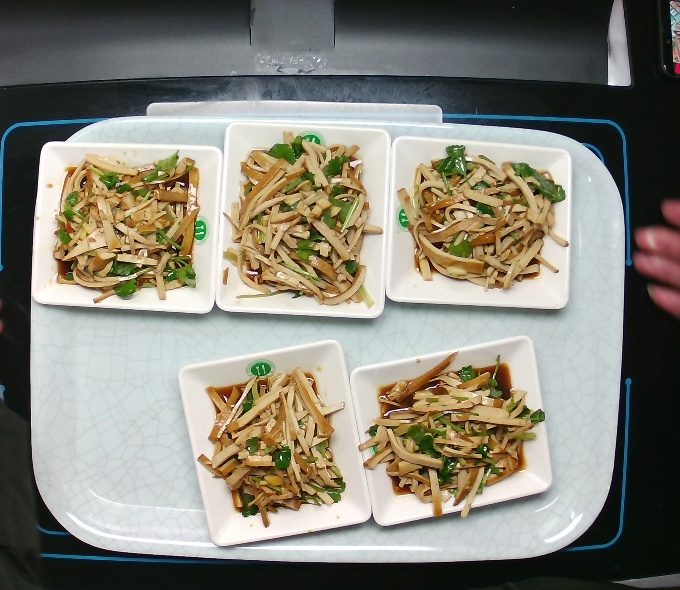wcq-LiangBanDouGan: (360, 342, 545, 524), (222, 122, 387, 315), (190, 349, 347, 540), (396, 141, 578, 304), (39, 148, 209, 308)
